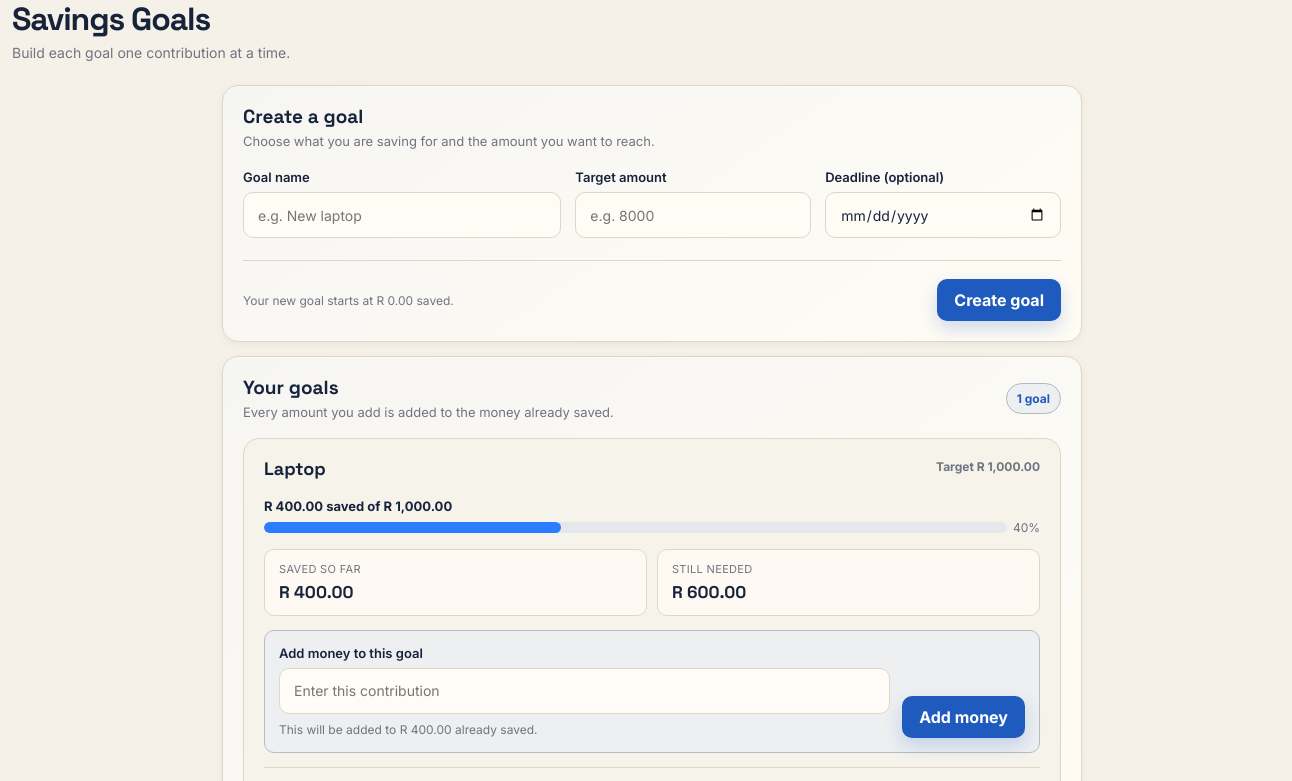
Scenario: blocks a contribution that is above the amount still needed
In the number field named "Amount to add to Laptop": (585, 691) [279,668,890,714], type "700"
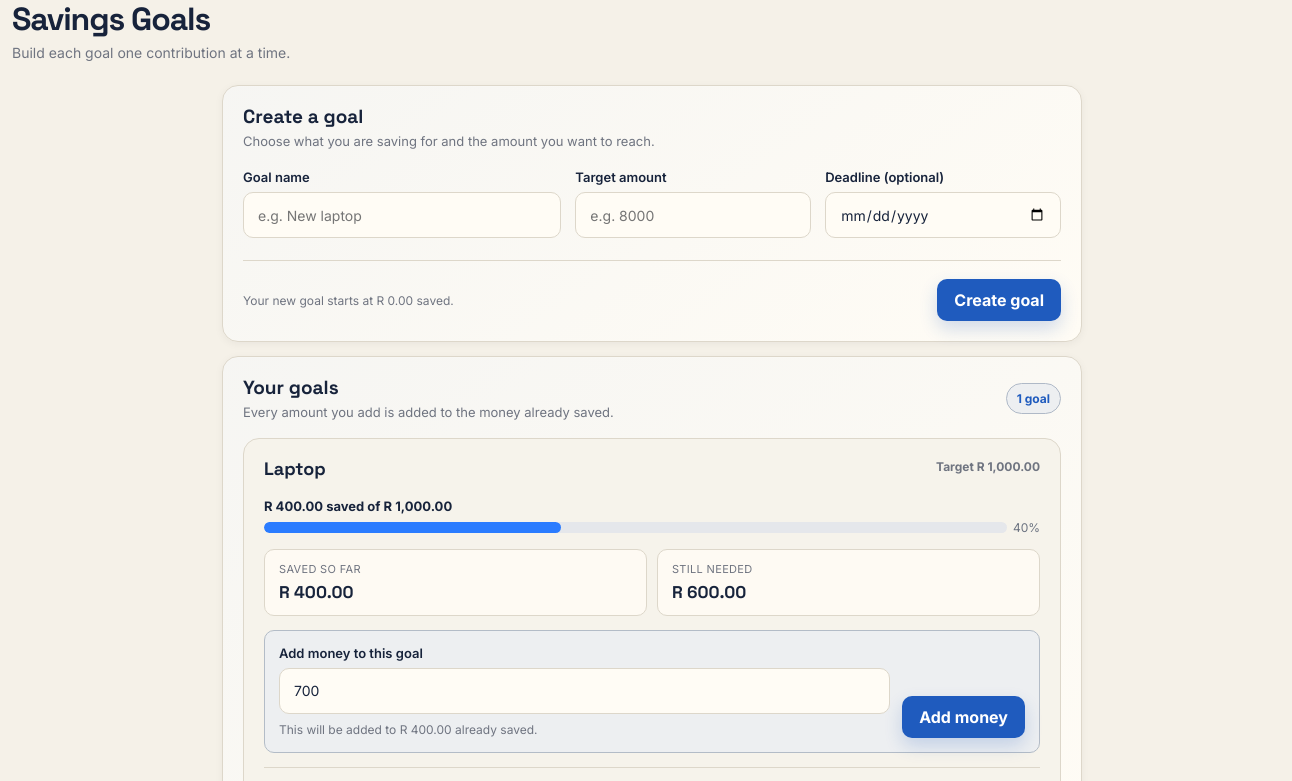
Click the button "Add money": (964, 717) [902,696,1025,738]
(page scrolled)
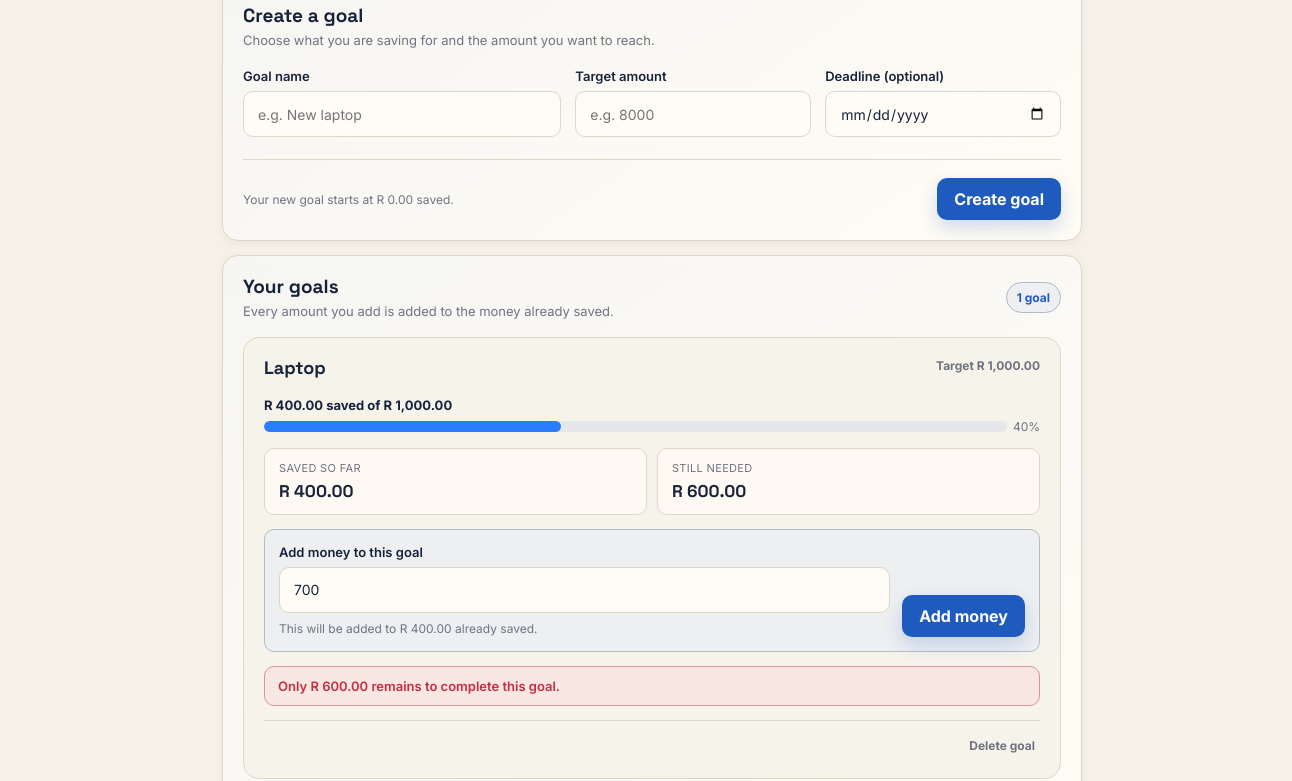
Now the message reads "Only R 600.00 remains to complete this goal.", box [278,678,560,694]
